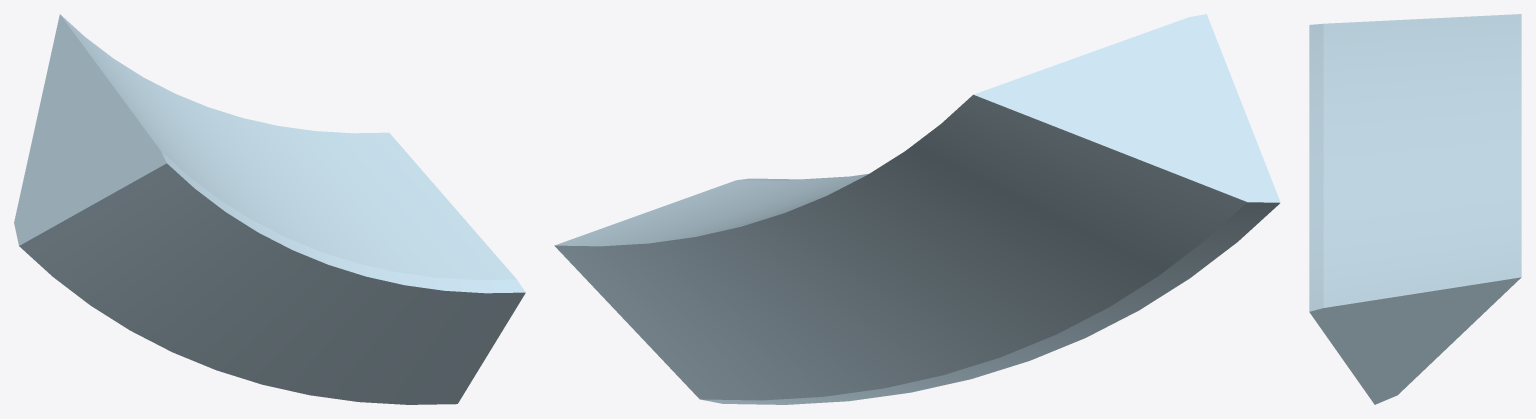
File: Sub_2_Cell_1_2.gltf
3 views of the same model, side by side, from view 1: azimuth 30°, elevation 25°; view 2: azimuth 150°, elevation 25°; view 3: azimuth 270°, elevation 25° (orthographic). The views are drawn at different scales.
Visible parts, largest first — view 1: Sub_2_Cell_1_2; view 2: Sub_2_Cell_1_2; view 3: Sub_2_Cell_1_2.
Part boxes in pixels (left/top/right/bottom): Sub_2_Cell_1_2: left=14, top=14, right=525, bottom=404; Sub_2_Cell_1_2: left=554, top=14, right=1280, bottom=404; Sub_2_Cell_1_2: left=1309, top=14, right=1521, bottom=404.
Size of the model in its own units: 0.1108 by 0.0875 by 0.0592.
